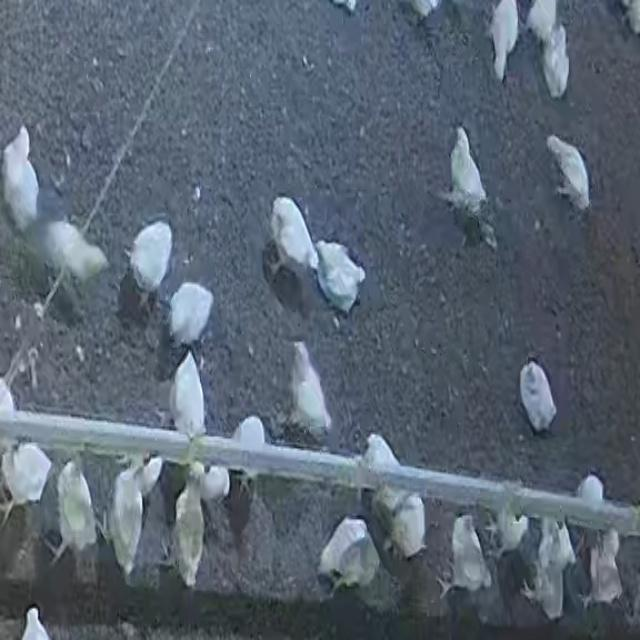chicken: (35, 216, 110, 292), (109, 459, 149, 581), (318, 518, 380, 595), (56, 458, 99, 566), (269, 196, 322, 282), (288, 340, 333, 439), (1, 128, 42, 234), (173, 468, 209, 588), (441, 514, 492, 598), (128, 220, 174, 308), (313, 242, 365, 317), (448, 122, 486, 217), (168, 350, 208, 440), (0, 441, 51, 510), (545, 134, 590, 210), (168, 282, 215, 350), (534, 520, 564, 620), (386, 493, 428, 561), (519, 360, 557, 434), (586, 529, 622, 607), (231, 416, 271, 484), (484, 6, 520, 74), (485, 502, 529, 557), (540, 31, 571, 95), (360, 432, 400, 478), (524, 0, 561, 42), (198, 464, 229, 504), (575, 473, 604, 511)
